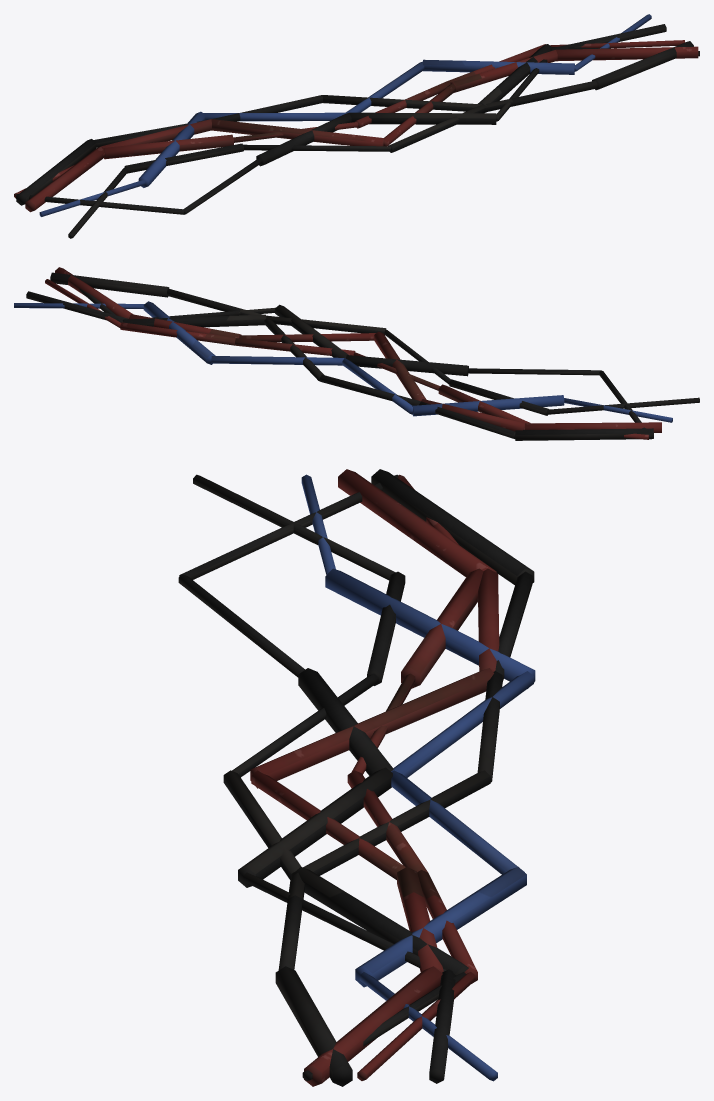
The model's file is Y08_floor_cable_bundles_v1.glb.
3 renders of one model, top to bottom at view 1: azimuth 30°, elevation 25°; view 2: azimuth 150°, elevation 25°; view 3: azimuth 270°, elevation 25°, orthographic. The views are drawn at different scales.
Parts seen in each view (by area): view 1: Y08_floor_cable_bundles_v1; view 2: Y08_floor_cable_bundles_v1; view 3: Y08_floor_cable_bundles_v1.
Part boxes in pixels (bbox=[...]): Y08_floor_cable_bundles_v1: bbox=[14, 14, 699, 238]; Y08_floor_cable_bundles_v1: bbox=[14, 267, 699, 440]; Y08_floor_cable_bundles_v1: bbox=[178, 469, 535, 1086].
Bounding box in the file's own units: 3 × 0.0496 × 0.7533.
3 materials, 3 textured.
